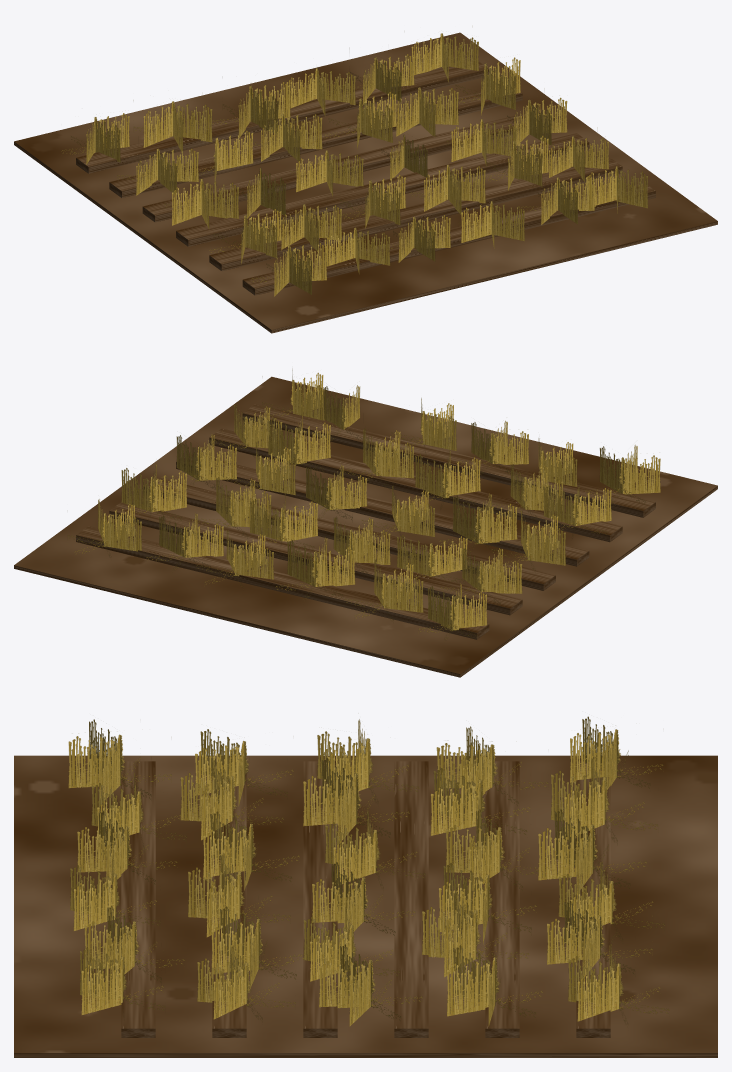
The model's file is nodo-farm-e1-DVHRCHPa.glb.
The picture shows the model from 3 angles, top to bottom: view 1: azimuth 30°, elevation 25°; view 2: azimuth 150°, elevation 25°; view 3: azimuth 270°, elevation 25°; orthographic projection. The views are drawn at different scales.
Visible parts, largest first — view 1: suelo_y_surcos, cultivo; view 2: suelo_y_surcos, cultivo; view 3: suelo_y_surcos, cultivo.
Boxes of the visible parts, bbox=[...] form: suelo_y_surcos: bbox=[14, 32, 717, 333]; cultivo: bbox=[61, 33, 647, 296]; suelo_y_surcos: bbox=[14, 376, 717, 677]; cultivo: bbox=[68, 369, 660, 639]; suelo_y_surcos: bbox=[14, 755, 717, 1057]; cultivo: bbox=[68, 716, 669, 1026].
Bounding box in the file's own units: 47.2 × 4.96 × 47.2.
Materials: 2 (2 with a texture image).
